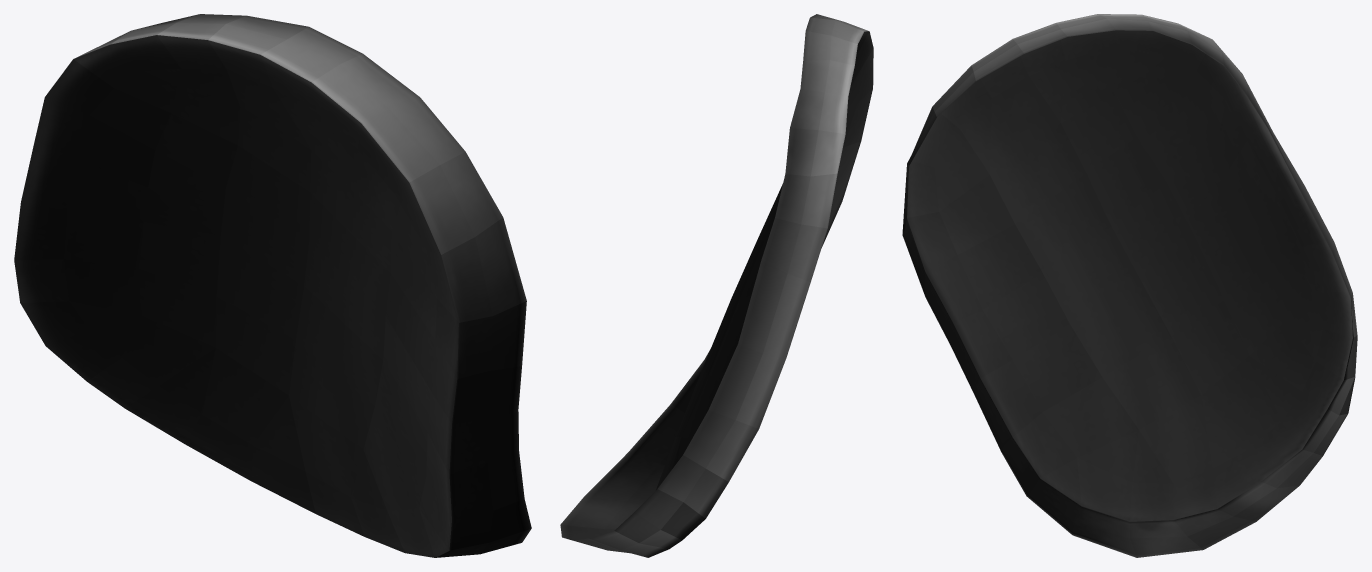
Rendered from YVR_d3_right_grip.obj.
3 views of the same model, side by side, from view 1: azimuth 30°, elevation 25°; view 2: azimuth 150°, elevation 25°; view 3: azimuth 270°, elevation 25° (orthographic). The views are drawn at different scales.
Parts seen in each view (by area): view 1: yvr_d3_right_grip; view 2: yvr_d3_right_grip; view 3: yvr_d3_right_grip.
Boxes of the visible parts, <box> form: yvr_d3_right_grip: <box>14,14,531,557</box>; yvr_d3_right_grip: <box>560,14,873,557</box>; yvr_d3_right_grip: <box>902,14,1357,557</box>.
Bounding box in the file's own units: 0.0138 × 0.0211 × 0.0198.
1 material, 1 textured.
